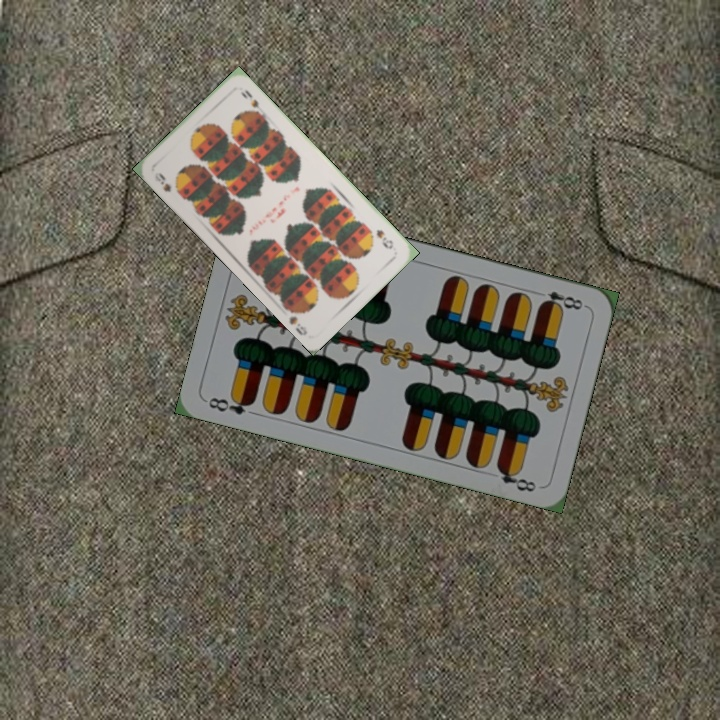E8: (204, 391, 258, 418), (536, 287, 589, 313)
S9: (150, 168, 184, 198), (372, 225, 396, 252)
